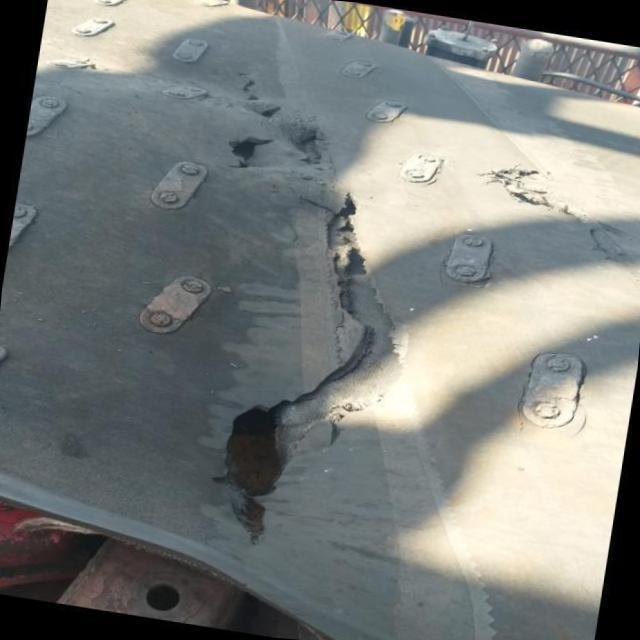Tear: (201, 64, 408, 550), (469, 154, 640, 268)
